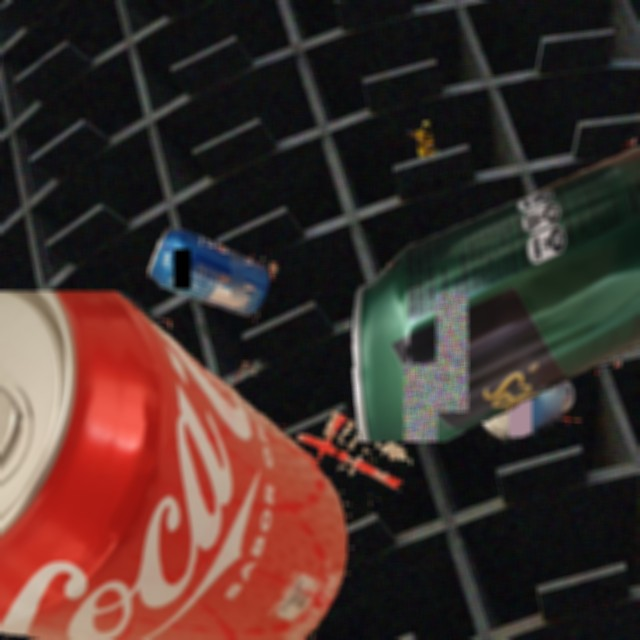coca cola: (0, 291, 412, 640)
pepsi: (145, 220, 280, 323), (470, 353, 582, 448)
schweppes: (330, 129, 640, 442)
